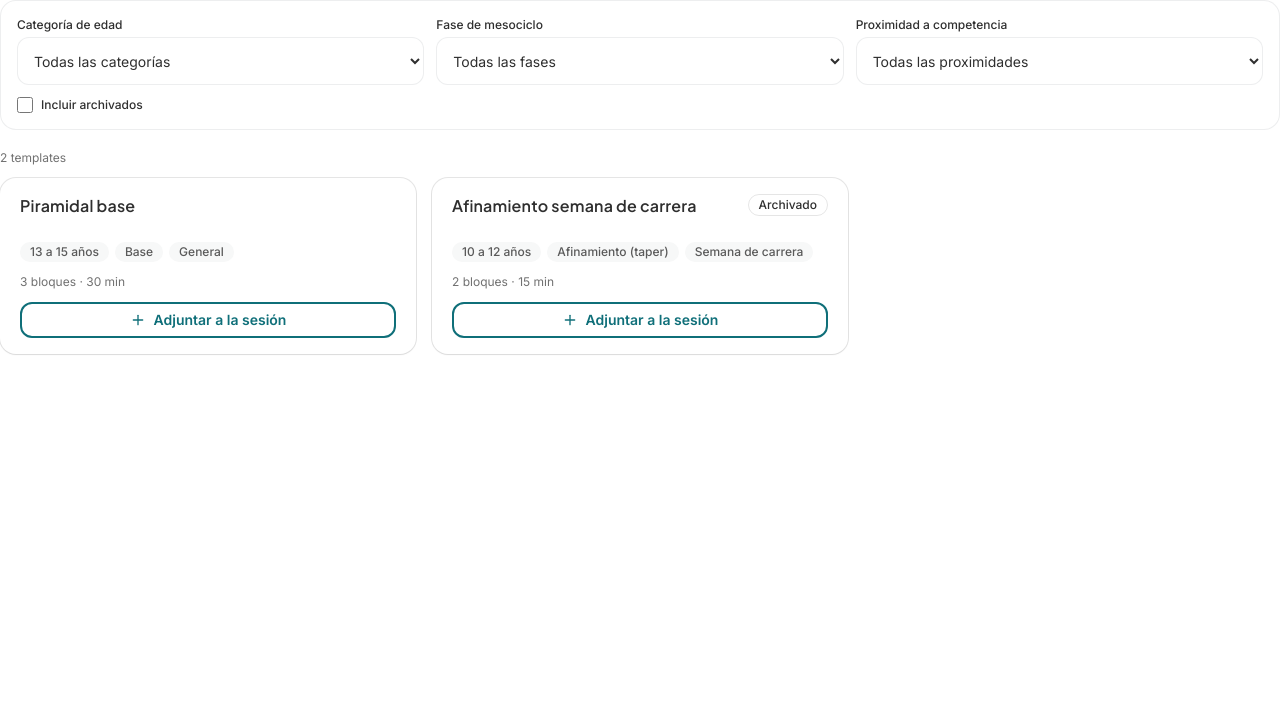
TemplatePicker — compuerta por edad confirmable (FR-007) › 'Confirmar estructura' reintenta el adjunto con age_gate_confirmed: true
What coordinates should you click on to do the following:
click the button "Adjuntar a la sesión" below "15 min"
I would click on:
 (640, 320)
Its box is [452,302,828,338].
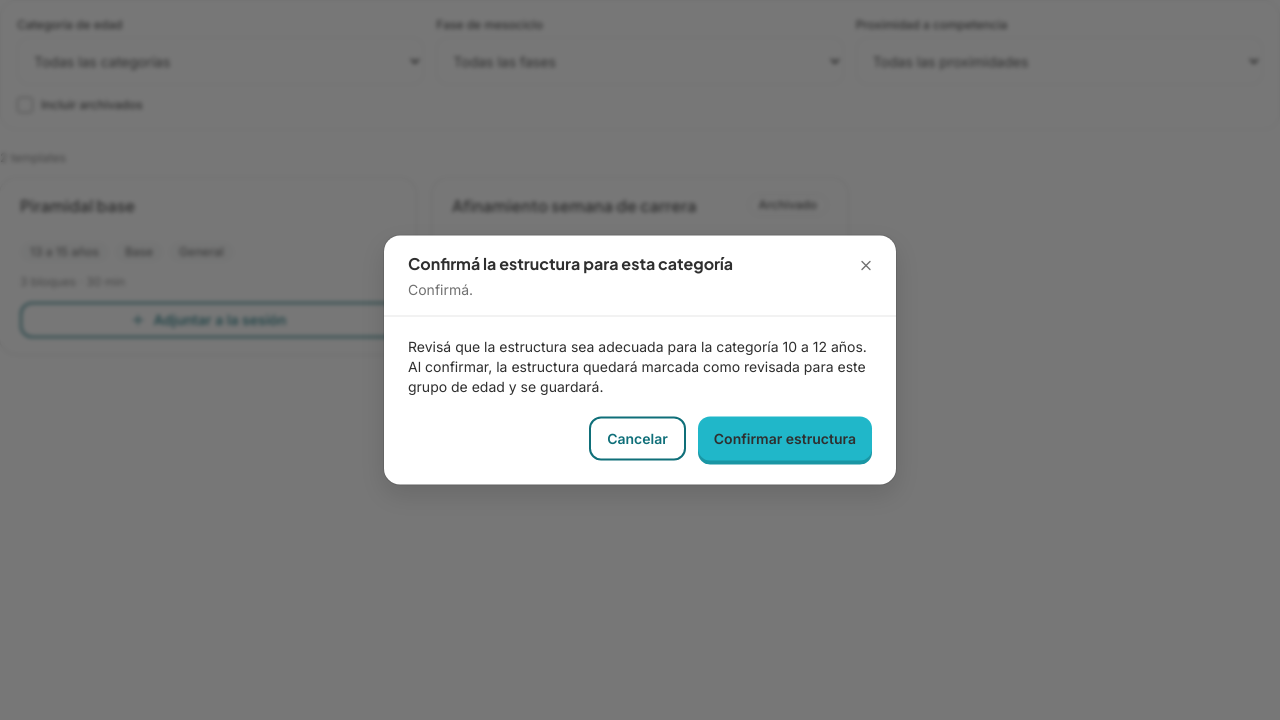
Expected: the heading "Confirmá la estructura para esta categoría" is shown, [408,252,733,274]
What coordinates should you click on to do the following:
click the button "Confirmar estructura"
I would click on:
 (785, 438)
Its box is [698,416,872,460].
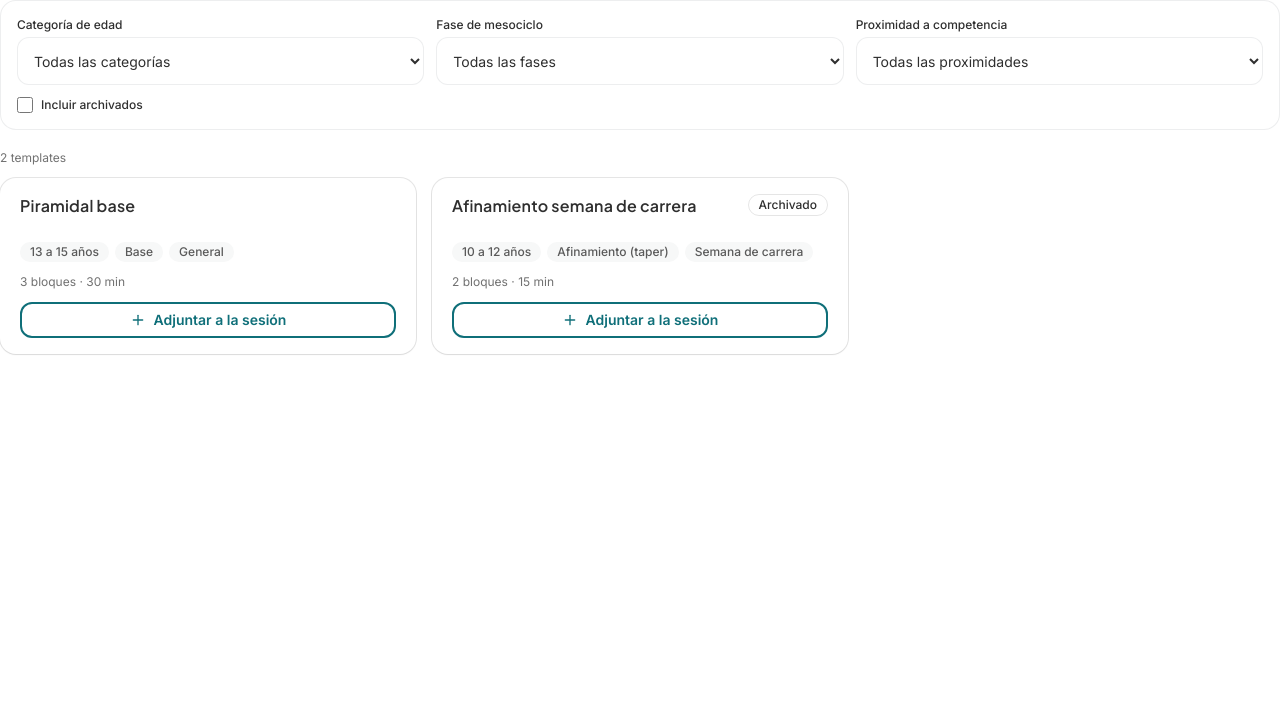
Expected: the heading "Confirmá la estructura para esta categoría" is gone
